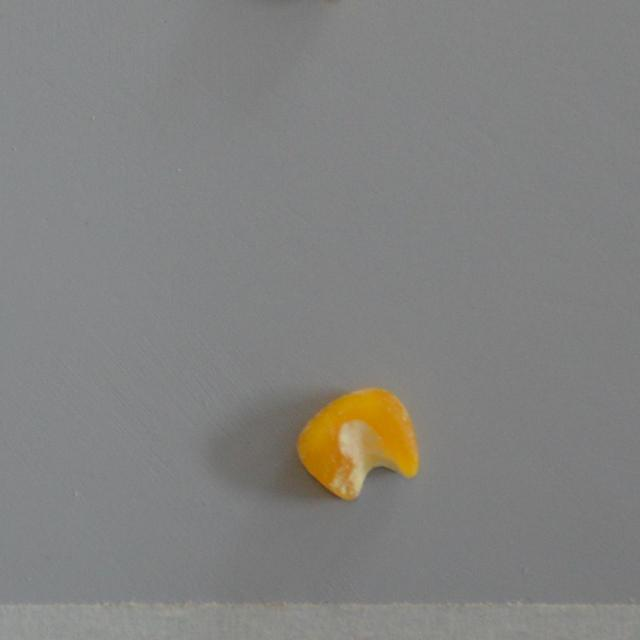pelicula: (295, 386, 420, 503)
